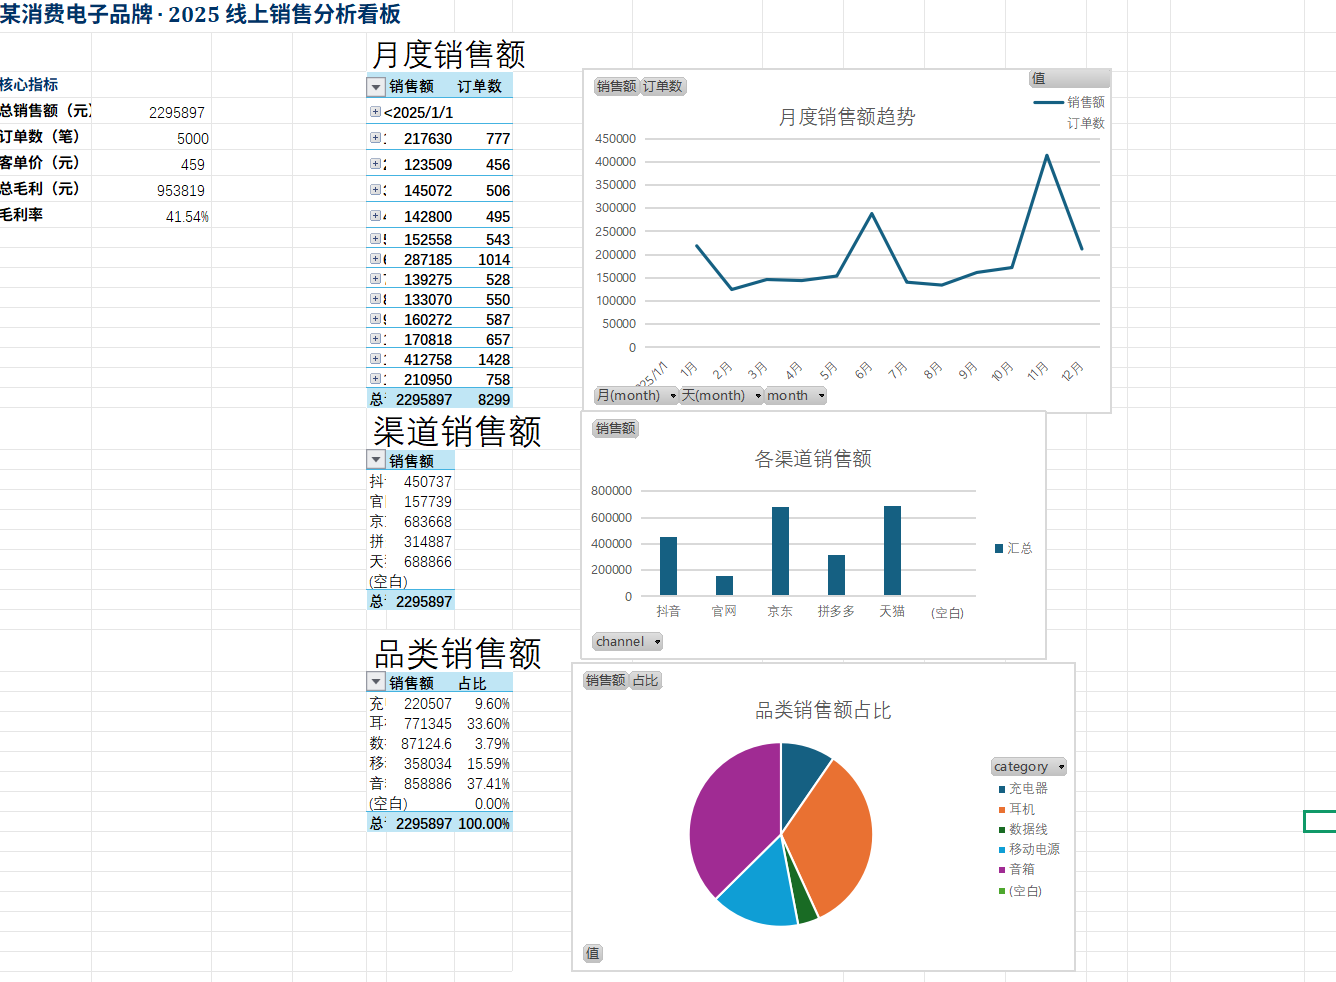

What the dashboard file says about the page in this screenshot:
{"tool":"powerbi","page":{"name":"第 1 页","canvas":[1920,1080],"ordinal":0},"visuals":[{"type":"lineChart","fields":{"Category":["orders.order_date.Variation.日期层次结构.月份"],"Y":["orders.销售额"]},"box":[0,0,992.5,610.1],"z":1},{"type":"columnChart","fields":{"Category":["orders.channel"],"Y":["orders.销售额"]},"box":[0,620,992,460],"z":2},{"type":"pieChart","fields":{"Category":["orders.category"],"Y":["orders.销售额"]},"box":[1002,0,918,610],"z":3},{"type":"cardVisual","fields":{"Data":["orders.销售额","orders.毛利率"]},"box":[1002,620,918,460],"z":4}]}

Visuals, with their boxes on the page's 1920x1080 design canvas (x1, y1, x2, y2). These are canvas units, not pixel positions in the 1336x982 screenshot, which may show the page scaled, cropped or inside an application window:
lineChart - orders.order_date.Variation.日期层次结构.月份 x orders.销售额: bbox=[0, 0, 992, 610]
columnChart - orders.channel x orders.销售额: bbox=[0, 620, 992, 1080]
pieChart - orders.category x orders.销售额: bbox=[1002, 0, 1920, 610]
cardVisual - orders.销售额 x orders.毛利率: bbox=[1002, 620, 1920, 1080]
